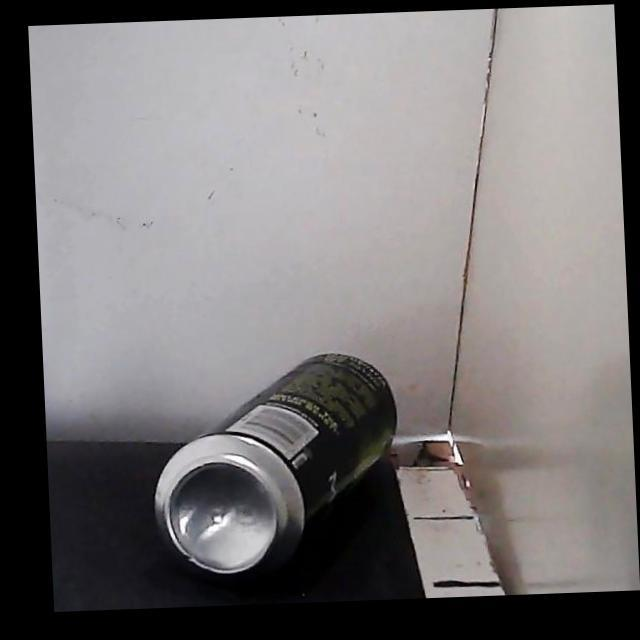metal: (156, 353, 396, 578)
